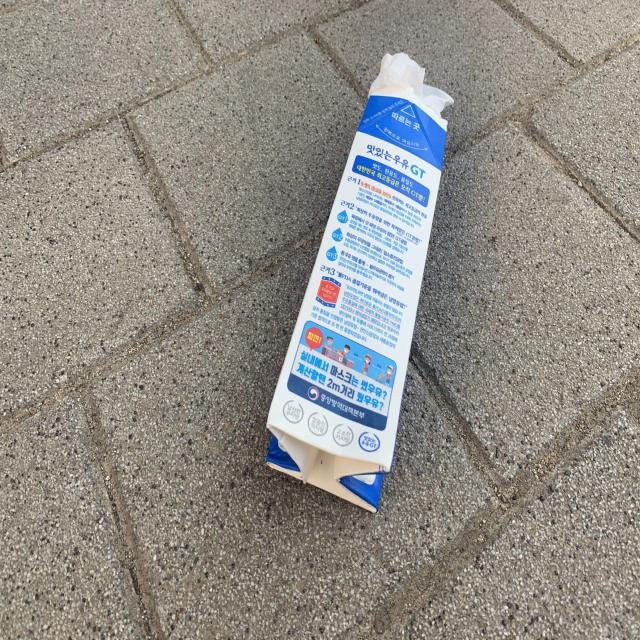paperpack: (267, 52, 454, 513)
